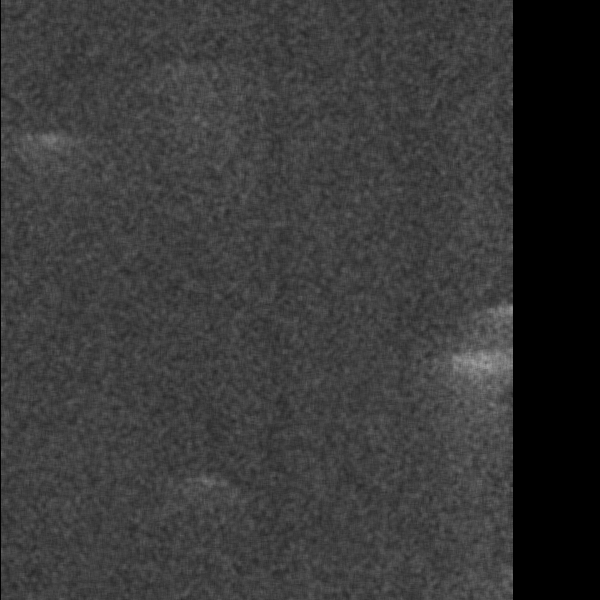spark: (59, 278, 115, 352), (276, 283, 326, 320)
